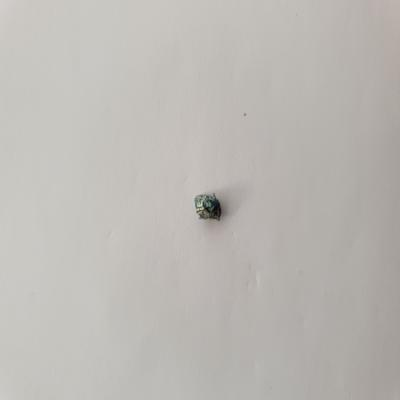plastic: (186, 191, 228, 225)
